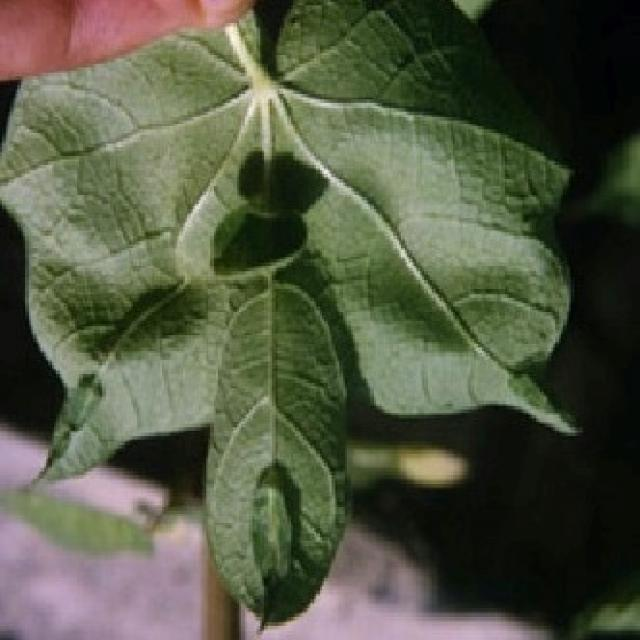Leaf Curl Virus: (120, 102, 406, 555)
